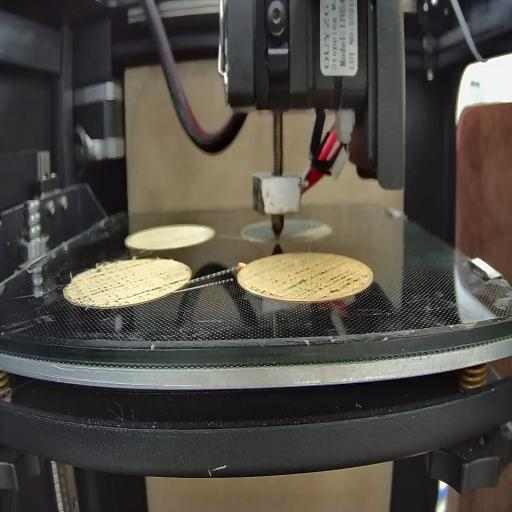under_extrusion: (249, 266, 370, 298), (71, 258, 136, 304), (138, 277, 190, 301)
